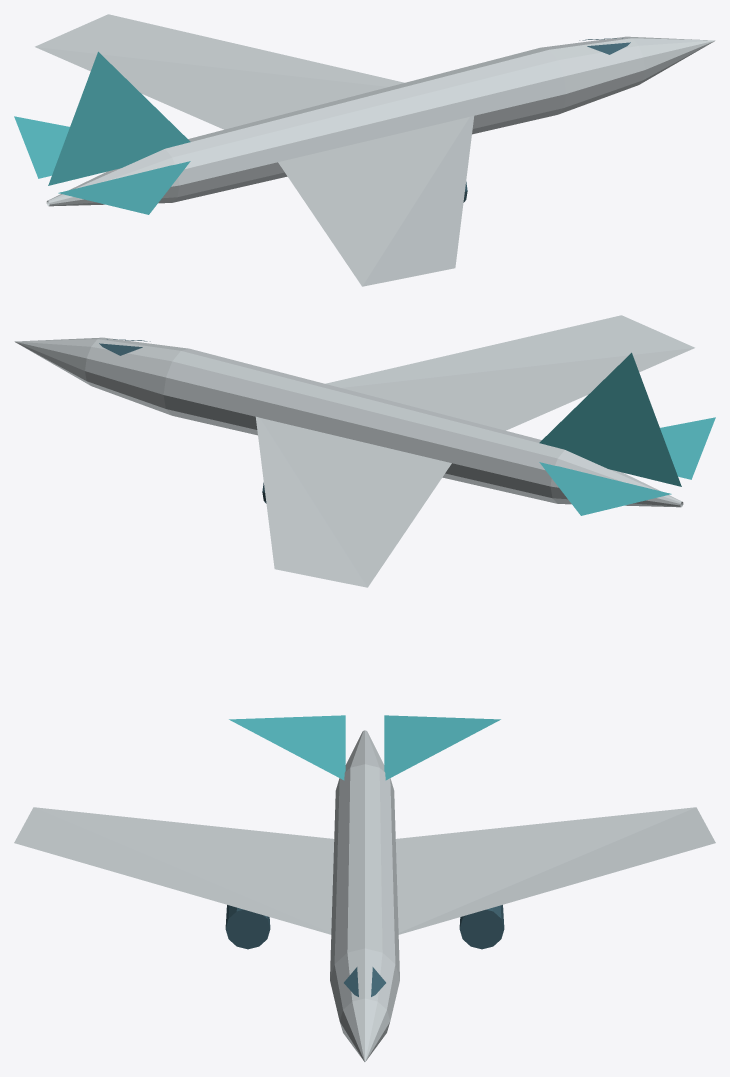
File: aircraft.glb
3 renders of one model, top to bottom at view 1: azimuth 30°, elevation 25°; view 2: azimuth 150°, elevation 25°; view 3: azimuth 270°, elevation 25°, orthographic.
Size of the model in its own units: 40 by 10.45 by 36.
